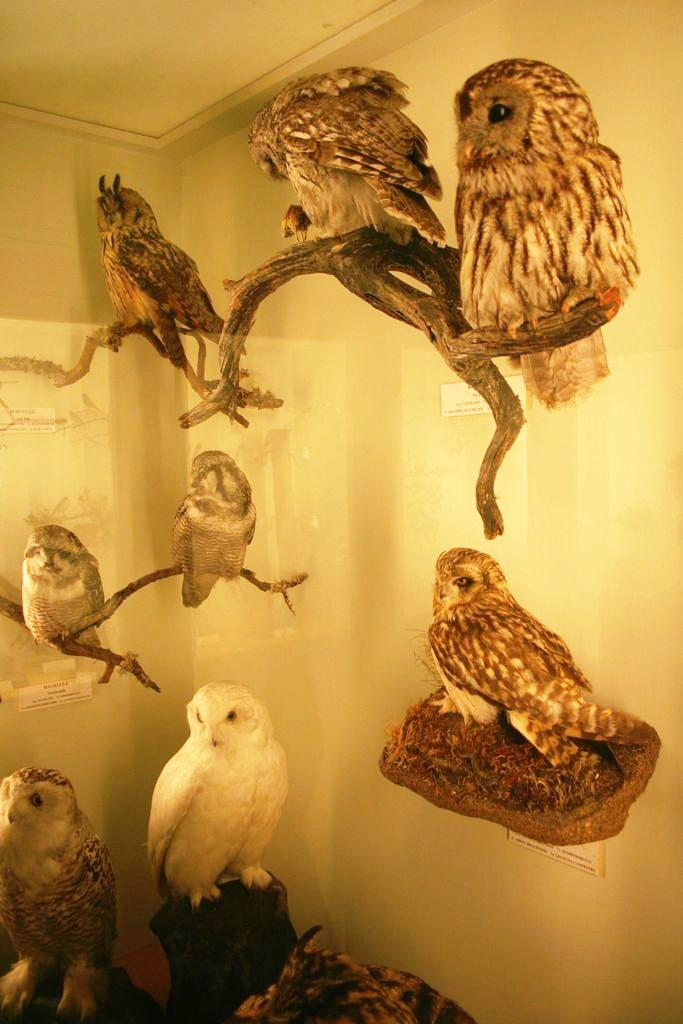Owl: (446, 40, 640, 412), (436, 548, 648, 800), (253, 68, 454, 255), (142, 686, 294, 916), (0, 770, 122, 1024), (106, 178, 244, 370), (172, 456, 260, 615), (21, 526, 107, 650)
